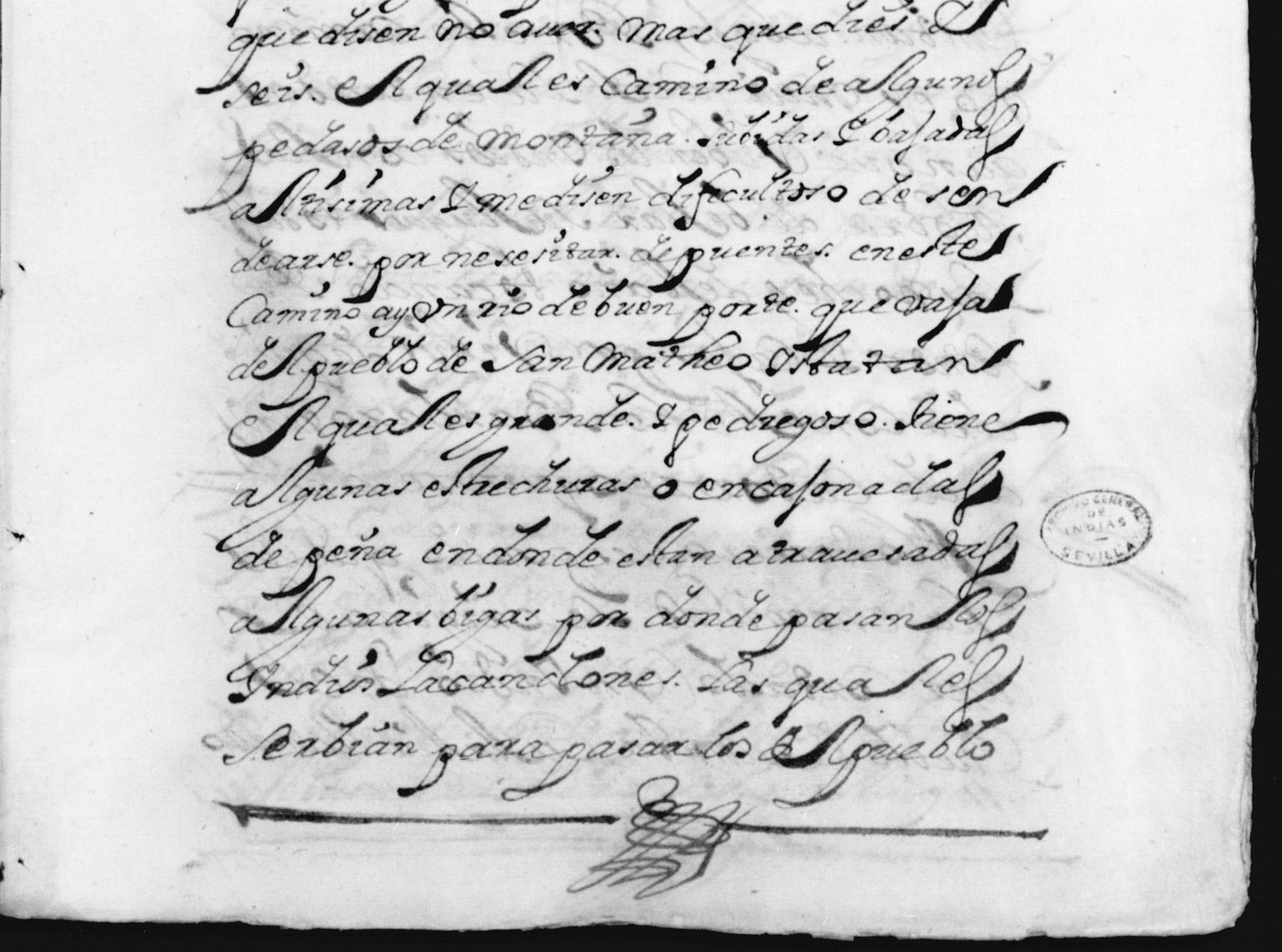lacandon: (376, 646, 681, 698)
